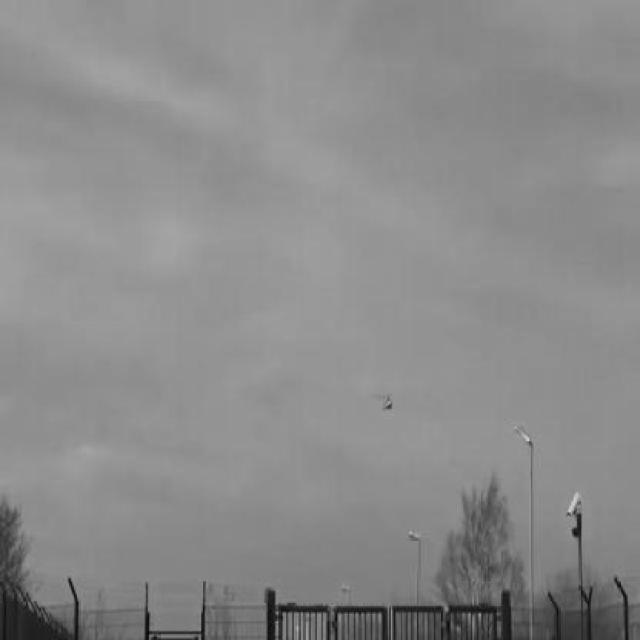helikopter: (370, 388, 402, 420)
